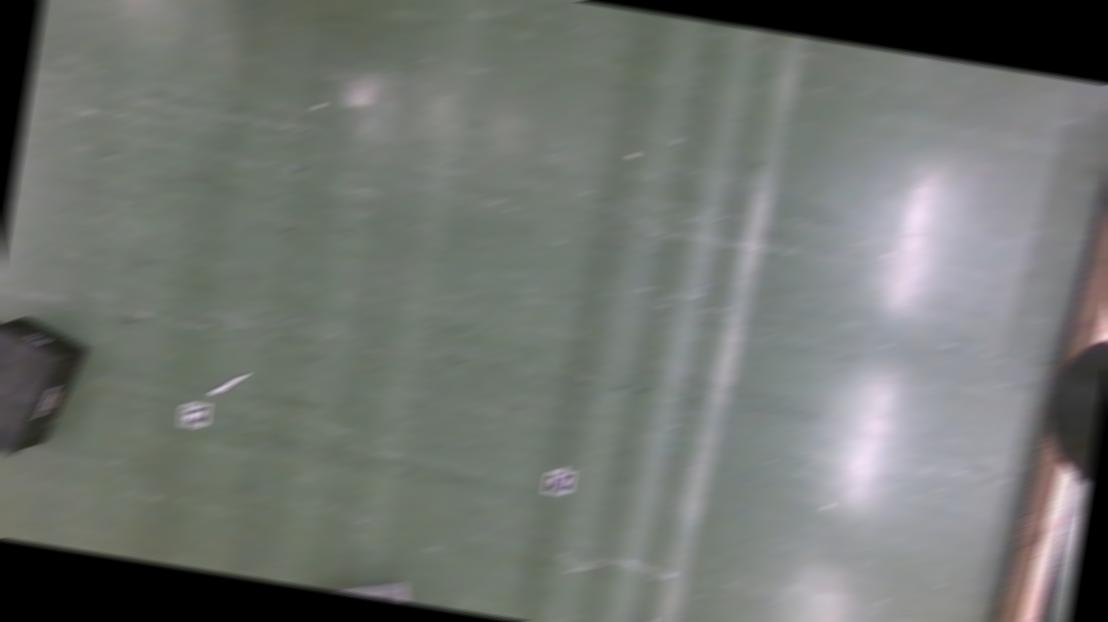probes: (210, 368, 248, 399), (645, 618, 664, 622)
rako: (0, 310, 90, 462), (324, 570, 422, 604)
